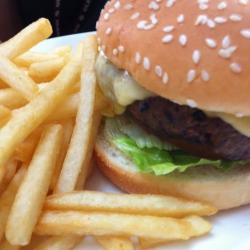burger: (94, 3, 250, 207)
fries: (2, 45, 98, 211)
